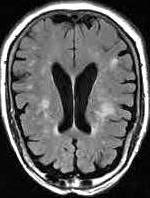Normal_Brain: (15, 11, 150, 198)
